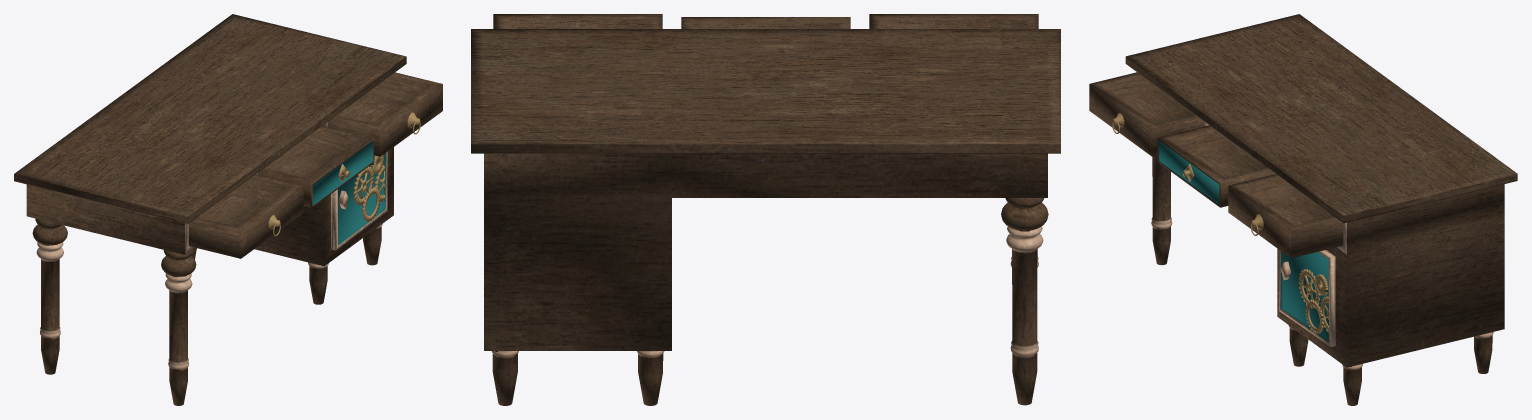
File: szafka1.fbx
The picture shows the model from 3 angles, left to right: view 1: azimuth 30°, elevation 25°; view 2: azimuth 150°, elevation 25°; view 3: azimuth 270°, elevation 25°; orthographic projection. The views are drawn at different scales.
Visible parts, largest first — view 1: stół1_Baked, szafki stołu 1_Baked; view 2: stół1_Baked, szafki stołu 1_Baked; view 3: stół1_Baked, szafki stołu 1_Baked.
Boxes of the visible parts, x1=… form: stół1_Baked: x1=14, y1=14, x2=406, y2=405; szafki stołu 1_Baked: x1=188, y1=72, x2=442, y2=258; stół1_Baked: x1=471, y1=29, x2=1060, y2=405; szafki stołu 1_Baked: x1=493, y1=14, x2=1038, y2=28; stół1_Baked: x1=1125, y1=14, x2=1517, y2=405; szafki stołu 1_Baked: x1=1089, y1=72, x2=1343, y2=258.
Size of the model in its own units: 380 by 173 by 332.
Materials: 2 (2 with a texture image).
